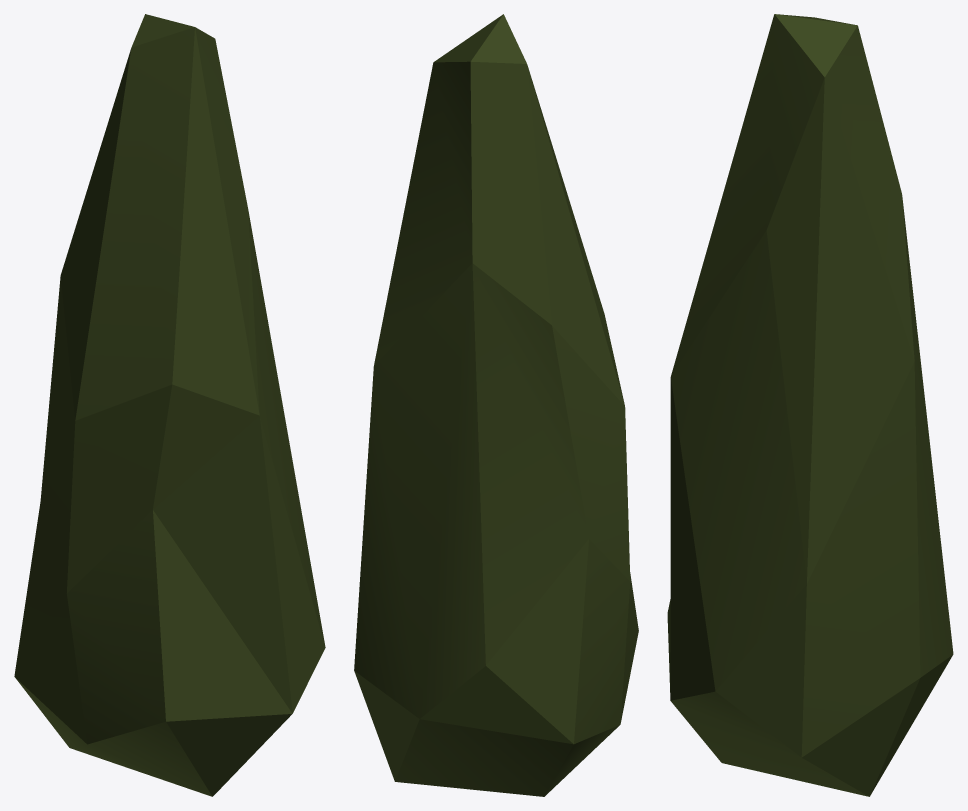
File: JuniperB.fbx
The picture shows the model from 3 angles, left to right: view 1: azimuth 30°, elevation 25°; view 2: azimuth 150°, elevation 25°; view 3: azimuth 270°, elevation 25°; orthographic projection.
Visible parts, largest first — view 1: JuniperB; view 2: JuniperB; view 3: JuniperB.
Boxes of the visible parts, bbox=[...] form: JuniperB: bbox=[14, 14, 325, 796]; JuniperB: bbox=[354, 14, 638, 796]; JuniperB: bbox=[667, 14, 953, 796].
Bounding box in the file's own units: 139 × 402 × 138.
